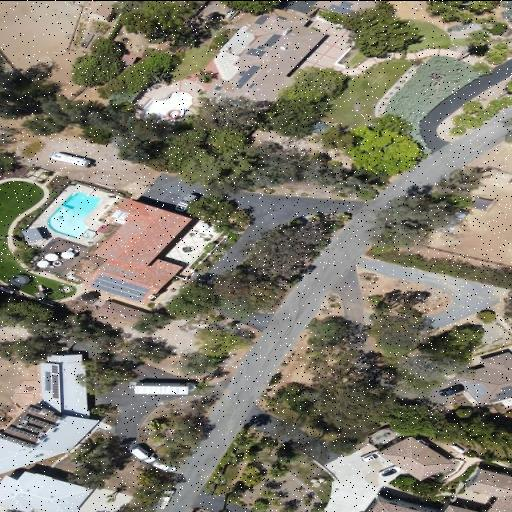solar-panel: (88, 273, 150, 301), (235, 64, 261, 88), (460, 379, 491, 399), (6, 425, 45, 440), (0, 433, 38, 448), (22, 414, 57, 428), (327, 0, 355, 16), (488, 385, 512, 402), (263, 33, 282, 46), (246, 47, 267, 56), (52, 373, 59, 398), (22, 423, 42, 431), (254, 14, 269, 24), (50, 413, 65, 420), (26, 405, 40, 412), (51, 364, 58, 373)
